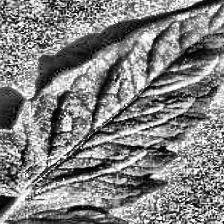leaf mold: (57, 0, 224, 179)
